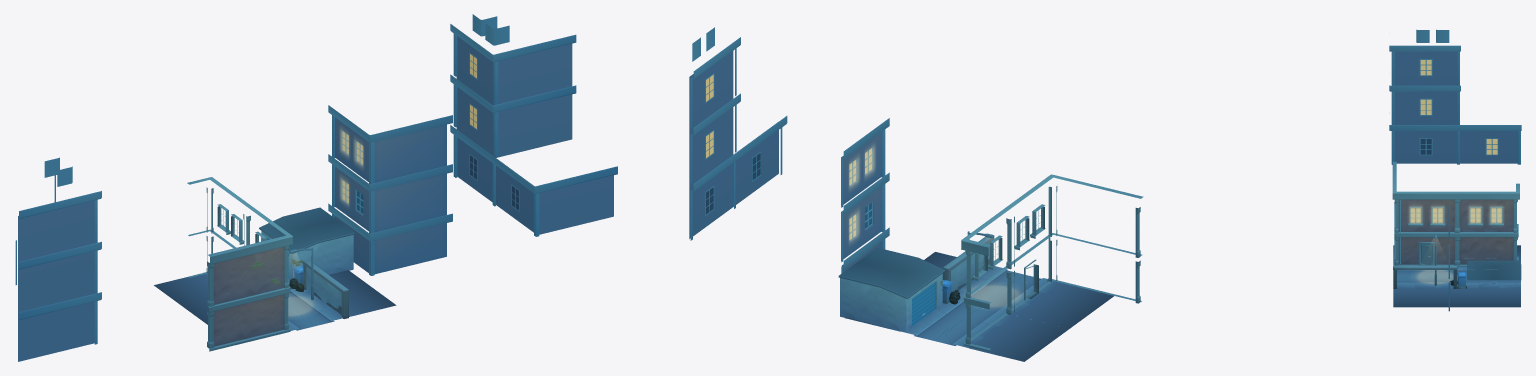
The model's file is UrbanBuilding02.prefab.glb.
3 renders of one model, left to right at view 1: azimuth 30°, elevation 25°; view 2: azimuth 150°, elevation 25°; view 3: azimuth 270°, elevation 25°, orthographic. The views are drawn at different scales.
Visible parts, largest first — view 1: FarBackBuilding02, BackgroundBuilding01, Building01, Garage03, UrbanBuilding02, Road02, PlasteredWall02; view 2: FarBackBuilding02, Garage03, Building01, BackgroundBuilding01, Road02, UrbanBuilding02, PlasteredWall02, LightPool; view 3: FarBackBuilding02, Building01, UrbanBuilding02, Road02, Garage03, PlasteredWall02, LightPool, BackgroundBuilding01, LightGlowPlane (2), LightGlowPlane (3), LightGlowPlane (1), LightGlowPlane (+1 smaller).
Boxes of the visible parts, x1,y1,x2,y2 form: FarBackBuilding02: (15, 14, 617, 361); BackgroundBuilding01: (328, 105, 452, 275); Building01: (187, 177, 292, 351); Garage03: (259, 207, 354, 280); UrbanBuilding02: (194, 275, 396, 344); Road02: (154, 270, 355, 314); PlasteredWall02: (302, 260, 349, 318); FarBackBuilding02: (689, 27, 787, 240); Garage03: (838, 247, 945, 331); Building01: (961, 174, 1143, 351); BackgroundBuilding01: (841, 118, 889, 273); Road02: (845, 301, 1069, 361); UrbanBuilding02: (924, 252, 1113, 328); PlasteredWall02: (942, 236, 994, 291); LightPool: (971, 284, 1022, 307); FarBackBuilding02: (1389, 29, 1521, 164); Building01: (1392, 161, 1519, 266); UrbanBuilding02: (1393, 245, 1457, 307); Road02: (1457, 245, 1520, 307); Garage03: (1467, 260, 1521, 283); PlasteredWall02: (1393, 265, 1457, 288); LightPool: (1416, 270, 1452, 283); BackgroundBuilding01: (1448, 205, 1497, 311); LightGlowPlane (2): (1468, 206, 1482, 223); LightGlowPlane (3): (1489, 206, 1502, 223); LightGlowPlane (1): (1430, 206, 1444, 223); LightGlowPlane: (1409, 206, 1422, 223).
Bounding box in the file's own units: 76.34 × 26.28 × 18.69.
Materials: 8 (7 with a texture image).
